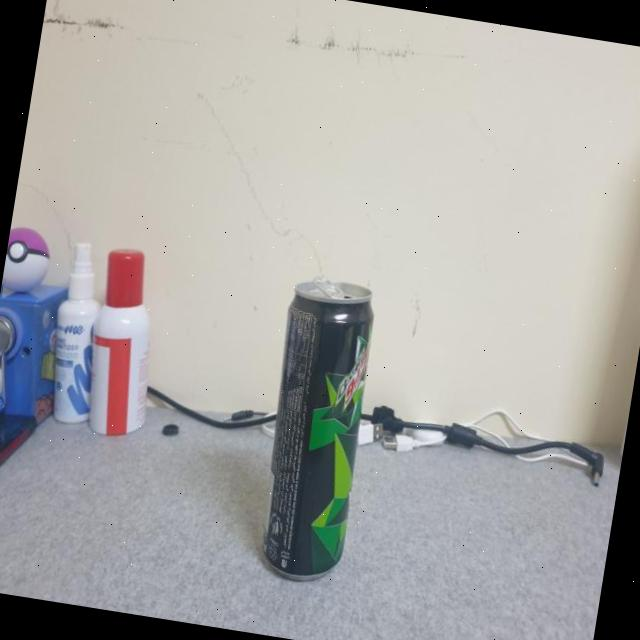trash: (236, 260, 398, 594)
